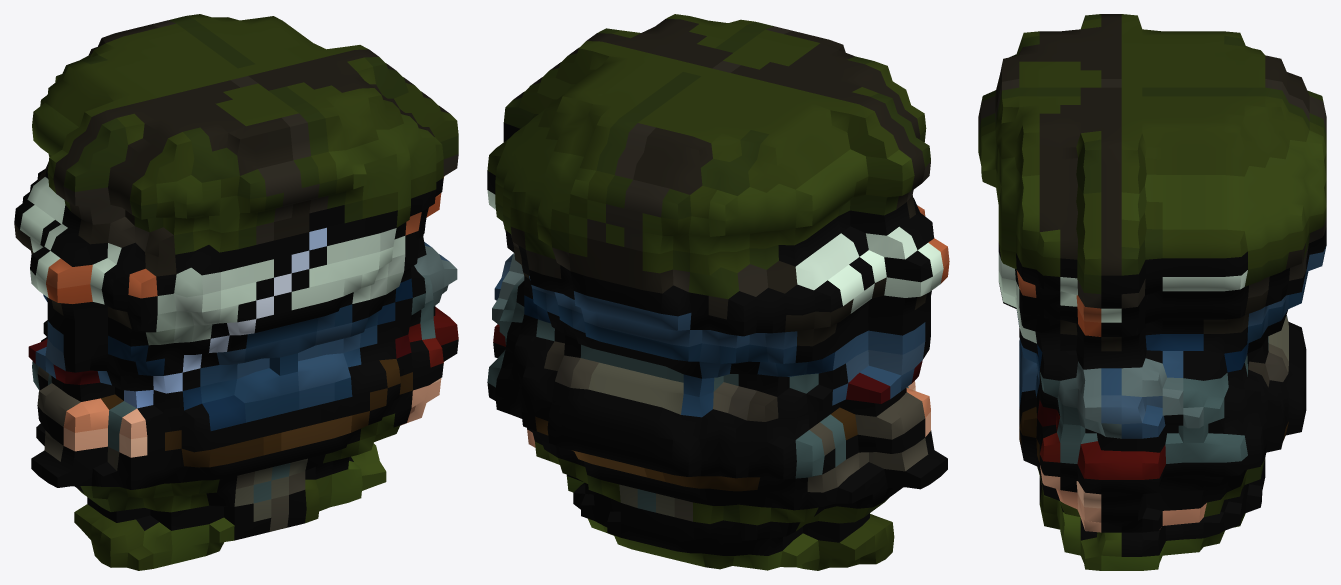
File: Icon_714_03.obj
3 renders of one model, left to right at view 1: azimuth 30°, elevation 25°; view 2: azimuth 150°, elevation 25°; view 3: azimuth 270°, elevation 25°, orthographic. The views are drawn at different scales.
Size of the model in its own units: 2.3 by 2.4 by 1.7.
Materials: 1 (1 with a texture image).
